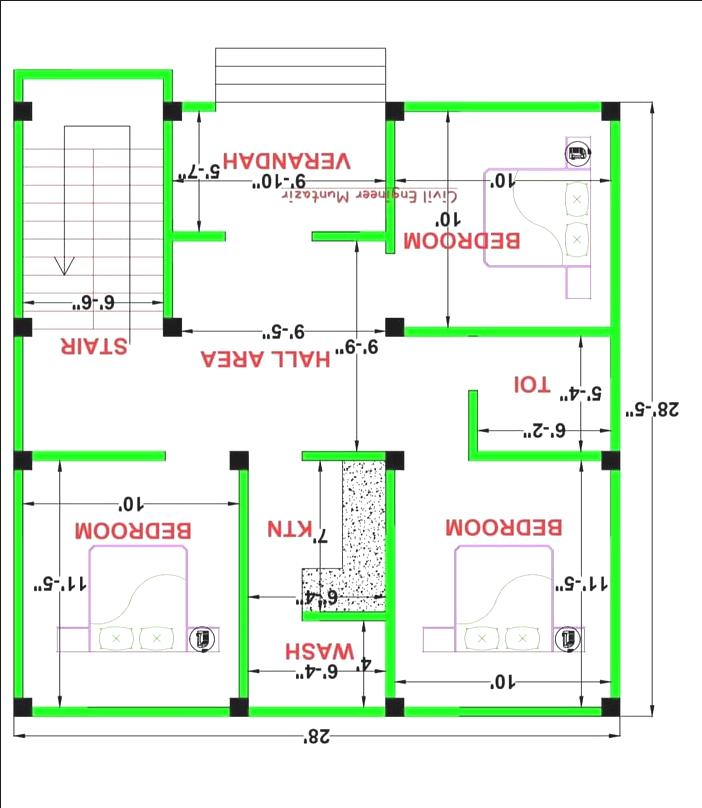Blueprint: (1, 57, 632, 730)
wall: (608, 117, 622, 454), (10, 466, 26, 700), (401, 323, 613, 340), (607, 464, 621, 698), (236, 466, 250, 699), (28, 704, 233, 718), (400, 99, 602, 113), (402, 704, 603, 718), (383, 466, 395, 698), (11, 117, 24, 320), (161, 118, 173, 320), (29, 447, 166, 464), (12, 66, 166, 80), (246, 704, 386, 718), (383, 118, 397, 256), (474, 448, 603, 462), (10, 334, 25, 454), (298, 608, 388, 622), (308, 227, 388, 242), (300, 448, 386, 461), (466, 388, 480, 462), (170, 228, 226, 243), (178, 99, 218, 113), (160, 66, 174, 103), (11, 67, 23, 104)
